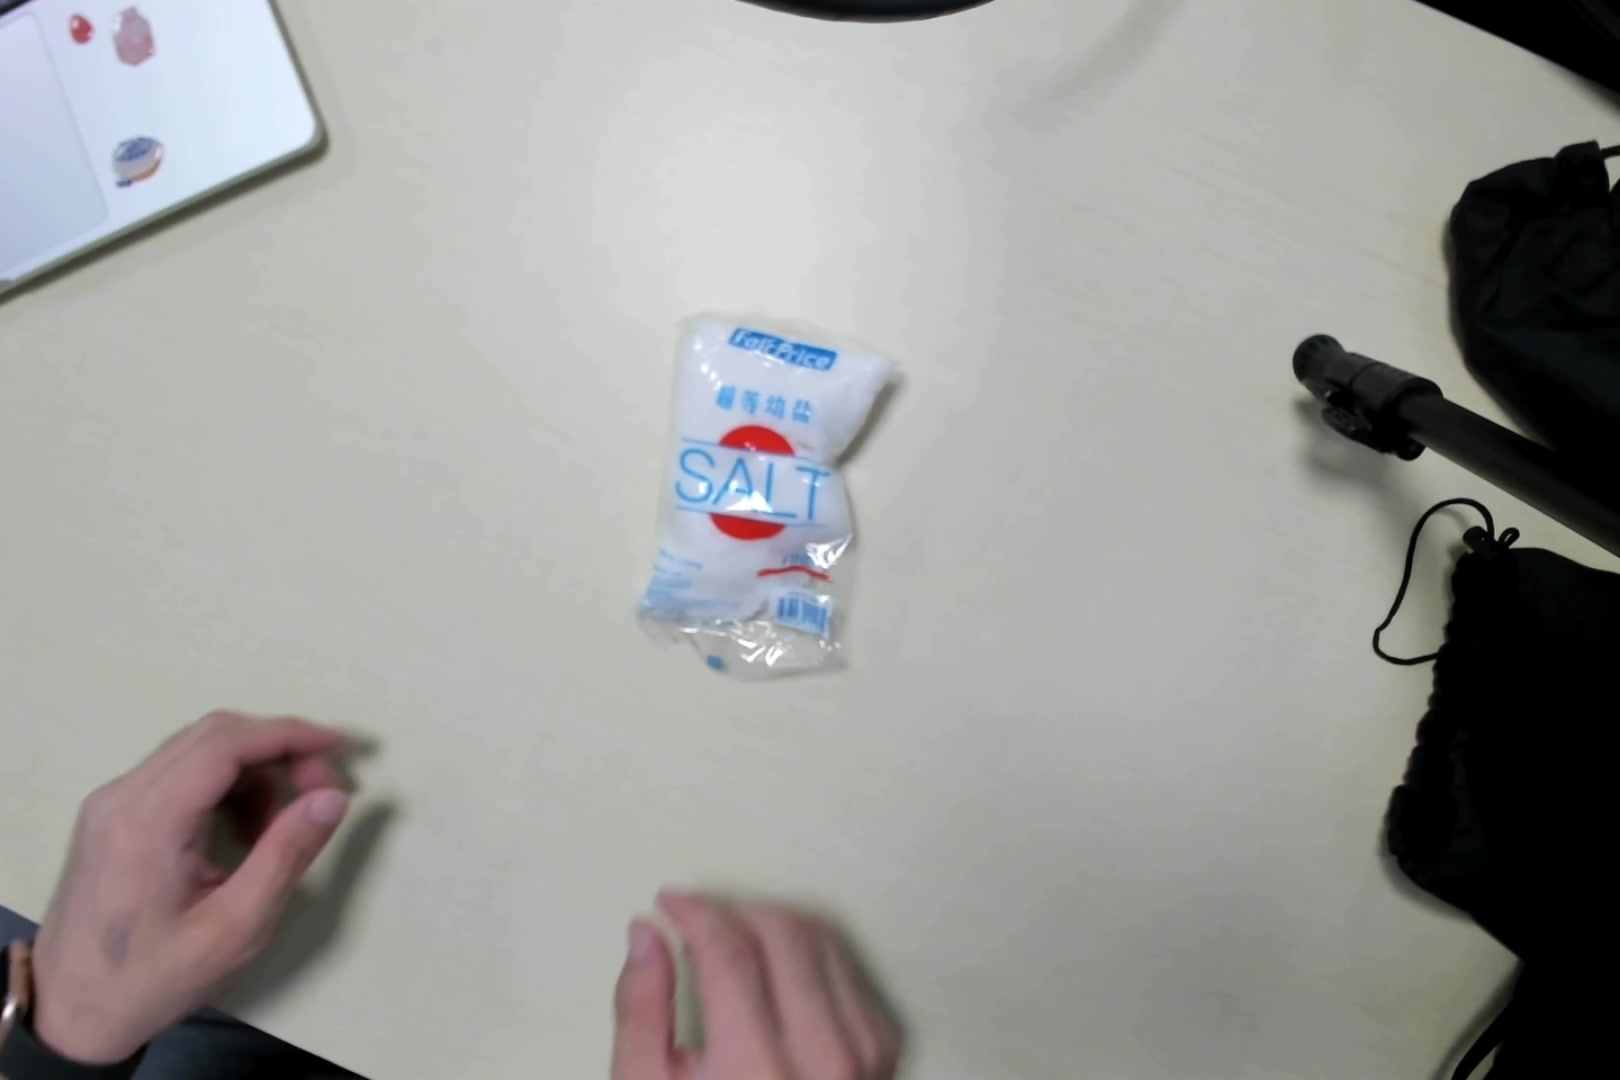Salt_200-299g_Halal_NonHealthy: (647, 323, 894, 681)
